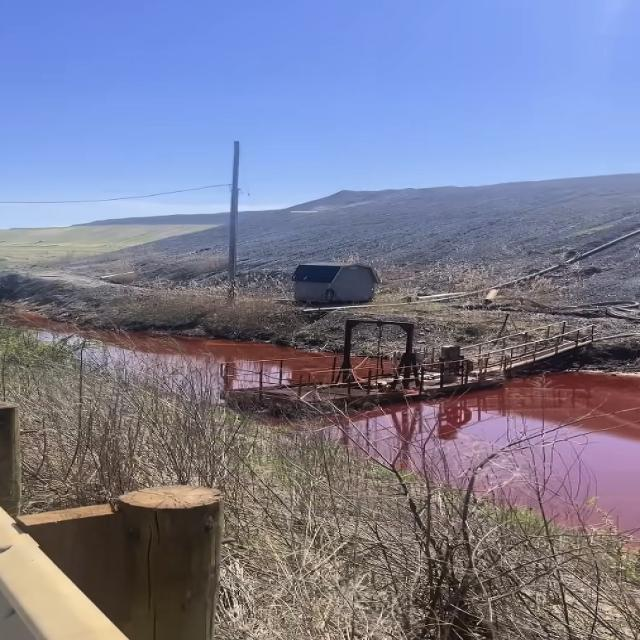yellow_boy: (329, 373, 639, 535), (10, 314, 331, 386)
